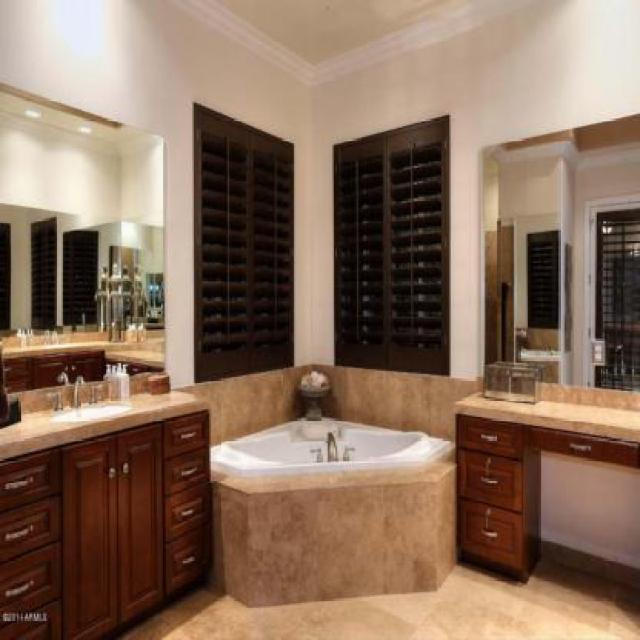Floor: (111, 553, 639, 639)
